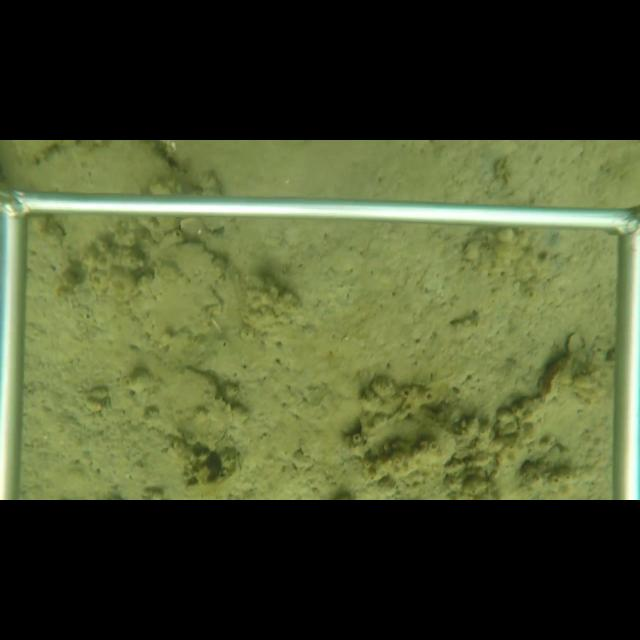Oyster-Closed: (112, 344, 234, 451), (516, 357, 577, 433)
